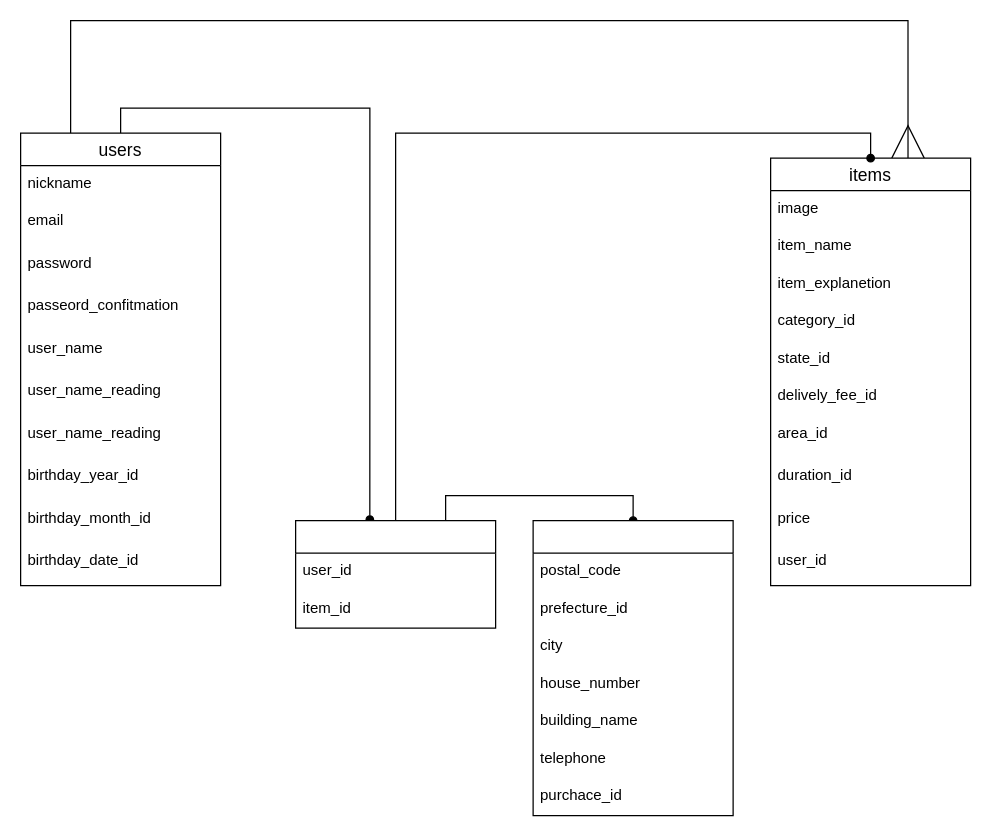
The diagram is 991 pixels wide and 836 high, and some of its shapes have lost their labels. Here are the shapes that lost their labels. From the top down, the box of each, then its label:
(294, 519, 496, 628): purchases
(532, 519, 733, 816): addresses
